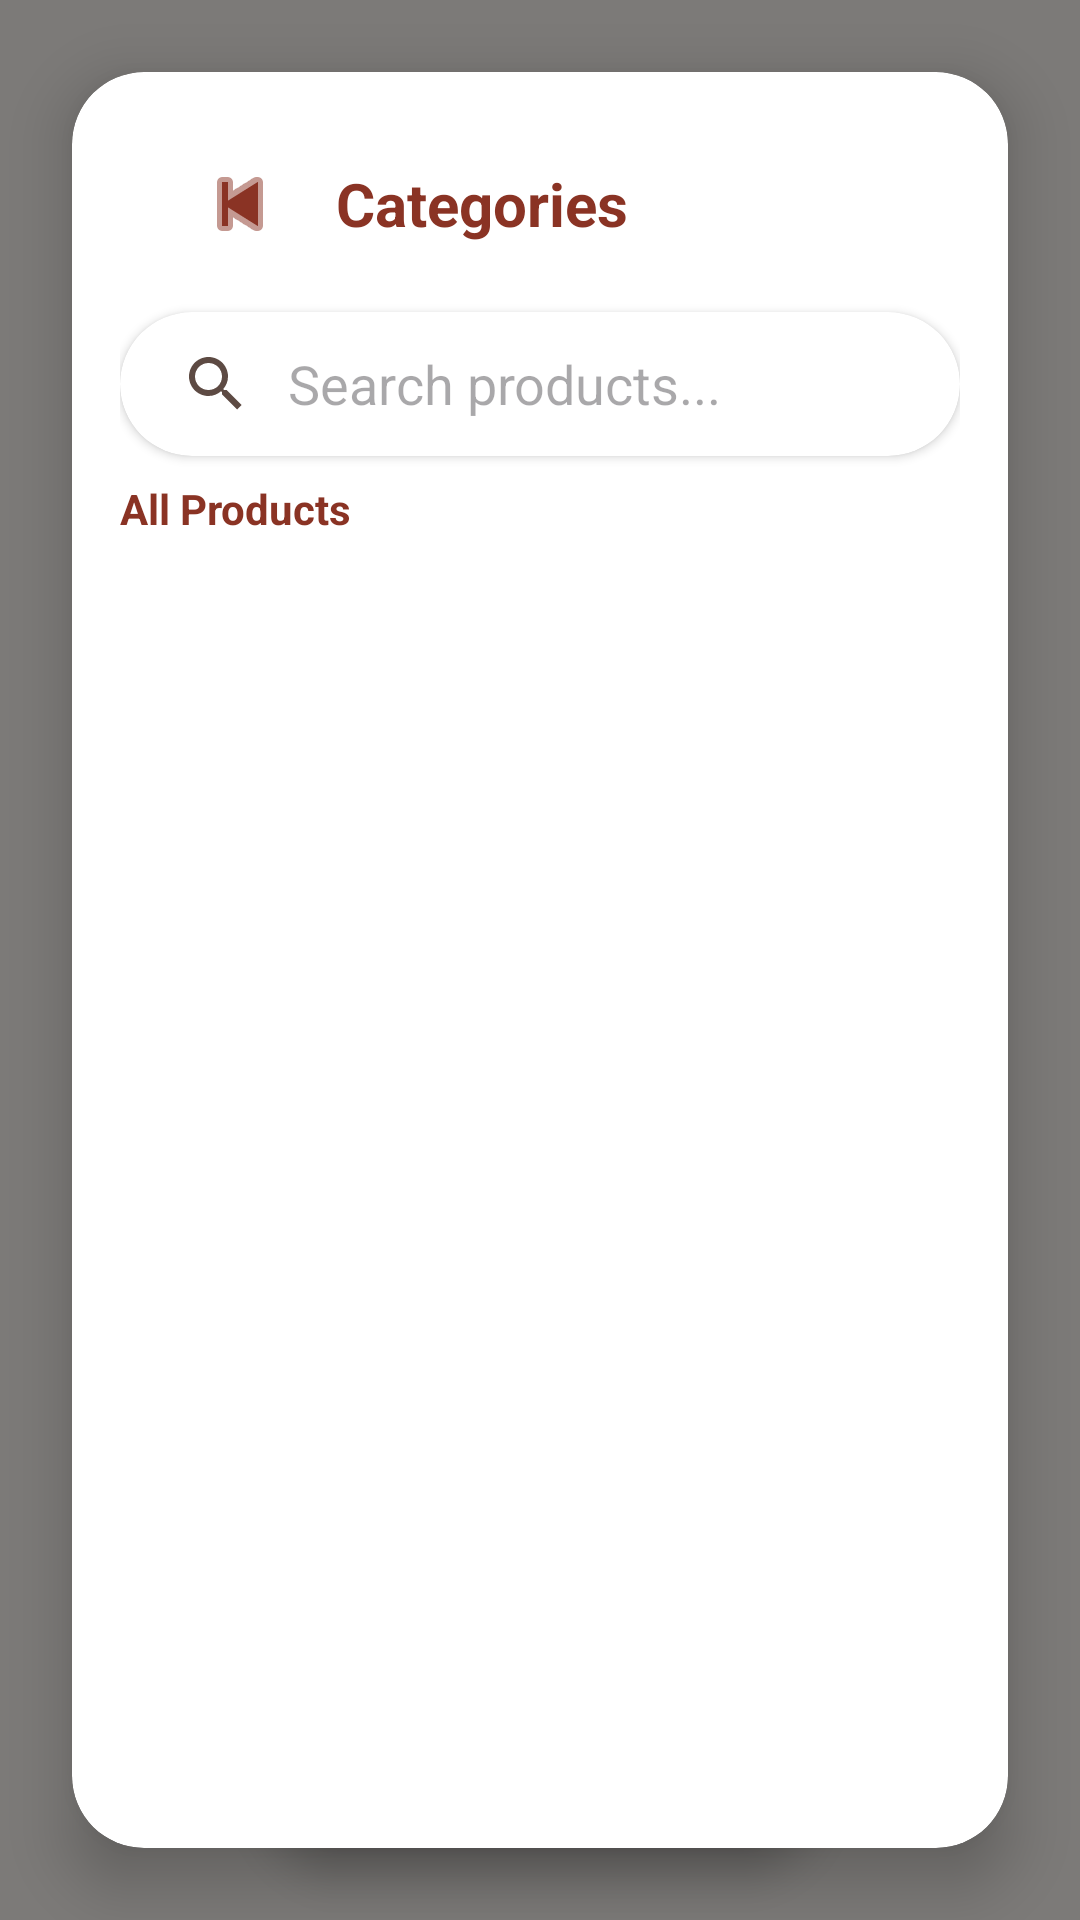

Locate icon controls on the screen. Image size 1080 × 1920, boxes as (x1, y1, x2, y2).
Back: (217, 177, 263, 231)
